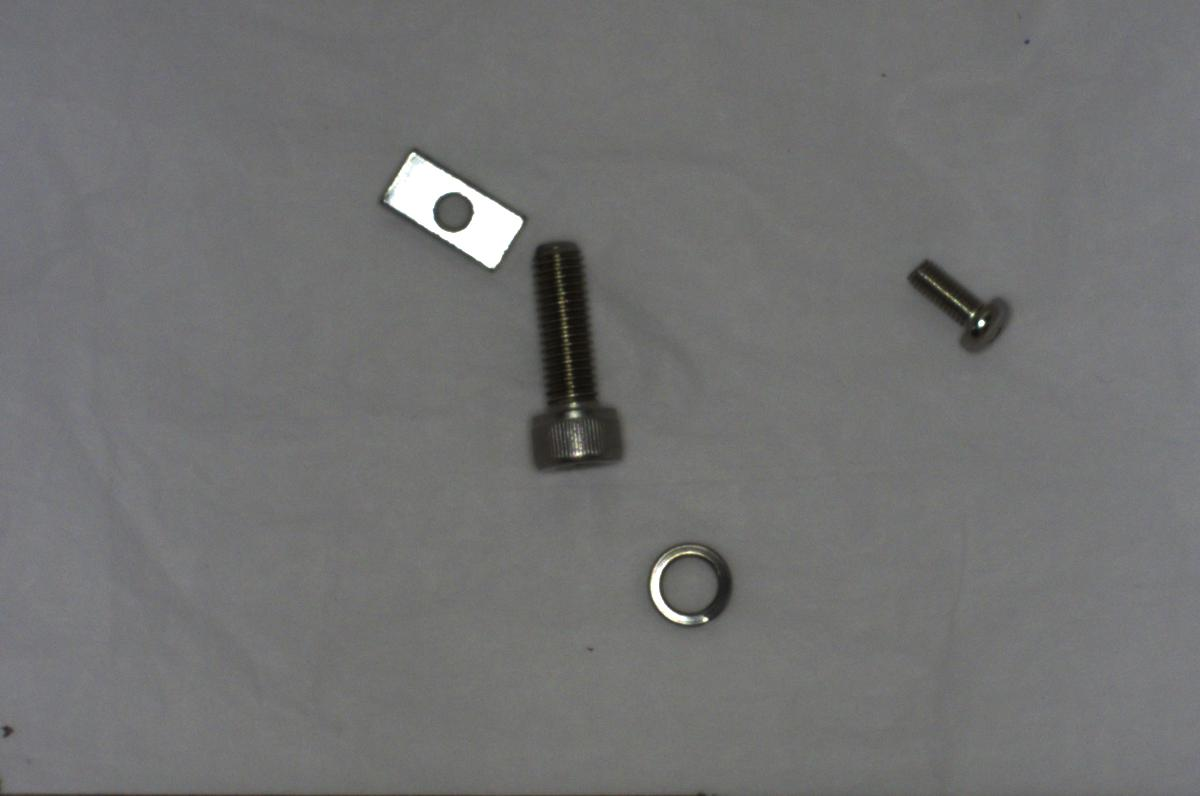Hexagon screw: (521, 229, 637, 480)
Rectangular nut: (381, 147, 525, 279)
Round head screw: (902, 254, 1022, 358)
Spring washer: (639, 535, 740, 638)
